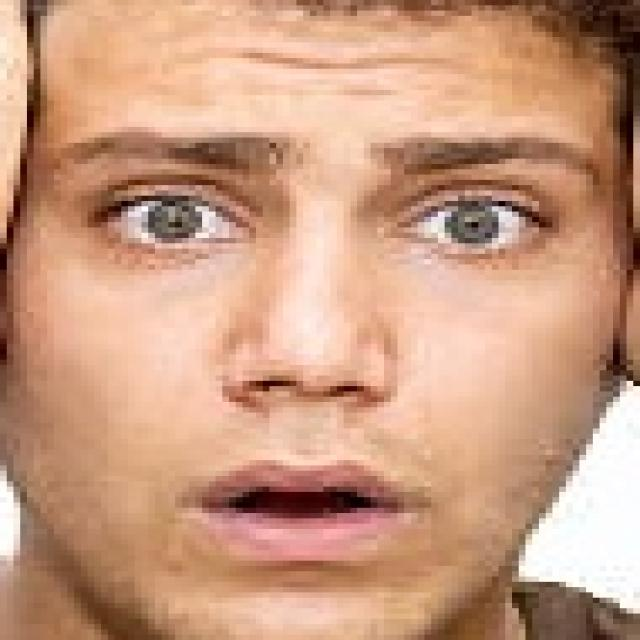Anxiety: (7, 0, 627, 635)
